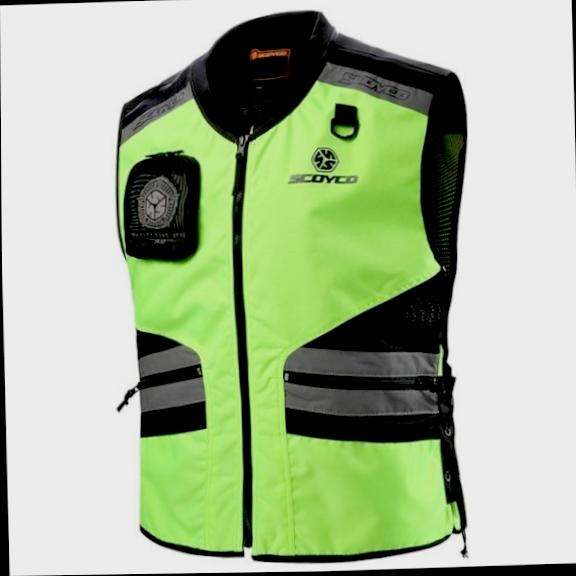safety_vest: (106, 3, 479, 567)
